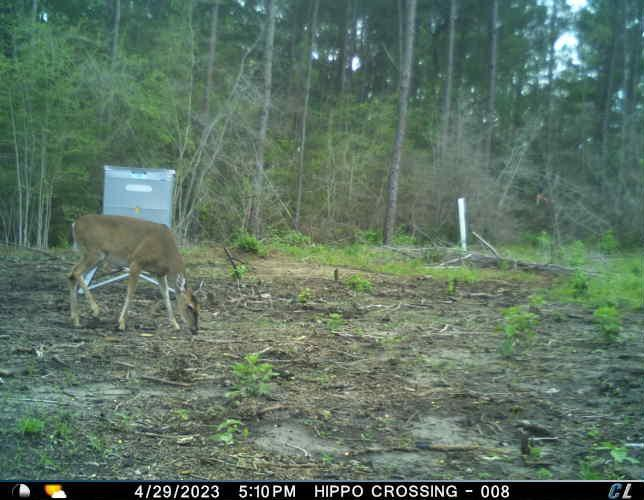Deer: (64, 211, 207, 339)
